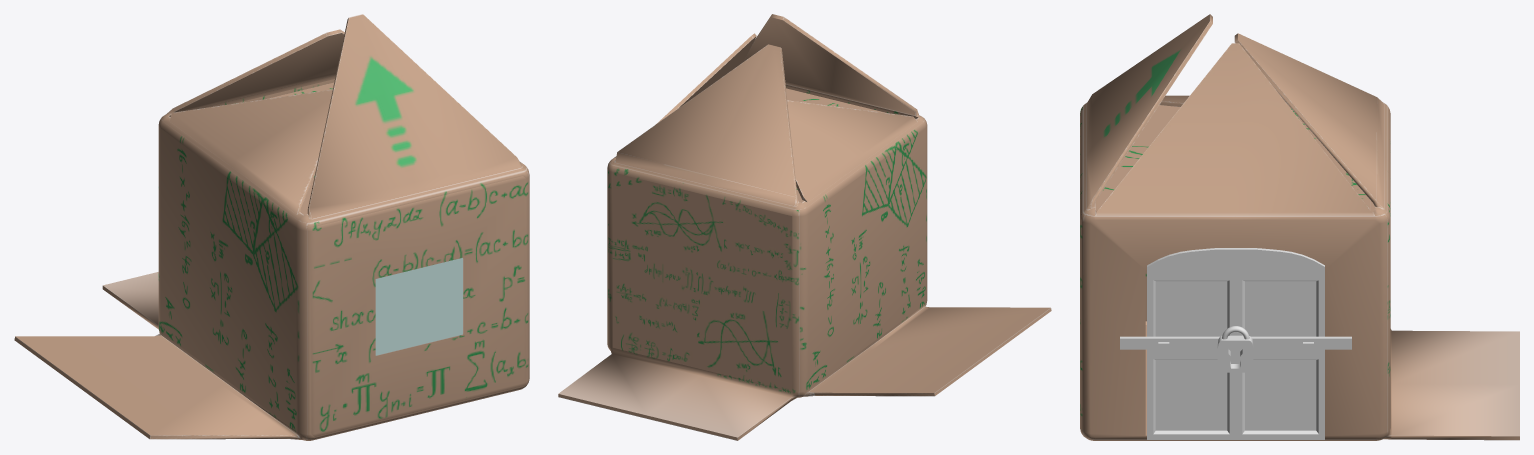
File: dus nu is ie gefixt.fbx
3 views of the same model, side by side, from view 1: azimuth 30°, elevation 25°; view 2: azimuth 150°, elevation 25°; view 3: azimuth 270°, elevation 25° (orthographic). The views are drawn at different scales.
Parts seen in each view (by area): view 1: Cube_4, Cube_2; view 2: Cube_2, Cube_4; view 3: Cube_2, Cube, Cube_1, Torus_1.
Part boxes in pixels (<box>): Cube_4: <box>160,129,526,436</box>; Cube_2: <box>14,14,529,440</box>; Cube_2: <box>558,14,1051,440</box>; Cube_4: <box>808,129,925,388</box>; Cube_2: <box>1080,14,1519,440</box>; Cube: <box>1147,248,1324,439</box>; Cube_1: <box>1120,336,1351,349</box>; Torus_1: <box>1217,326,1253,372</box>.
Size of the model in its own units: 1122 by 969 by 1045.
1 material, 1 textured.
